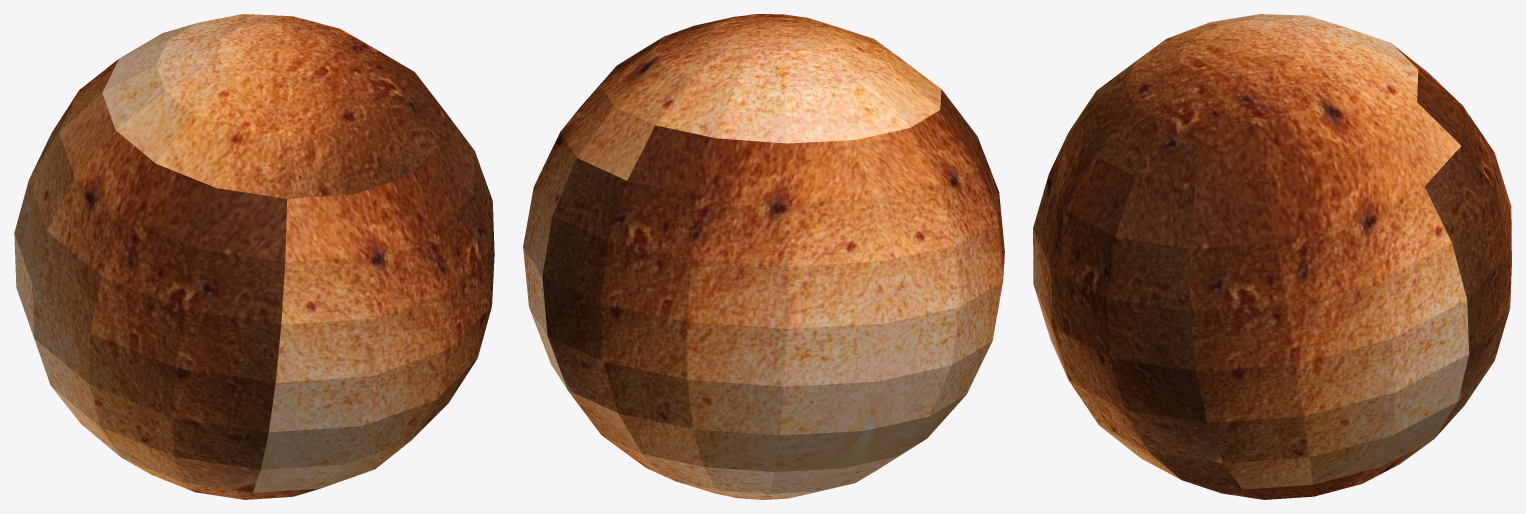
File: buñuelo_solo.fbx
The picture shows the model from 3 angles, left to right: view 1: azimuth 30°, elevation 25°; view 2: azimuth 150°, elevation 25°; view 3: azimuth 270°, elevation 25°; orthographic projection.
Visible parts, largest first — view 1: Sphere; view 2: Sphere; view 3: Sphere.
Part boxes in pixels (left/top/right/bottom): Sphere: left=14, top=14, right=494, bottom=499; Sphere: left=523, top=14, right=1004, bottom=499; Sphere: left=1033, top=14, right=1511, bottom=499.
Bounding box in the file's own units: 7.22 × 7.22 × 7.15.
Materials: 1 (1 with a texture image).
